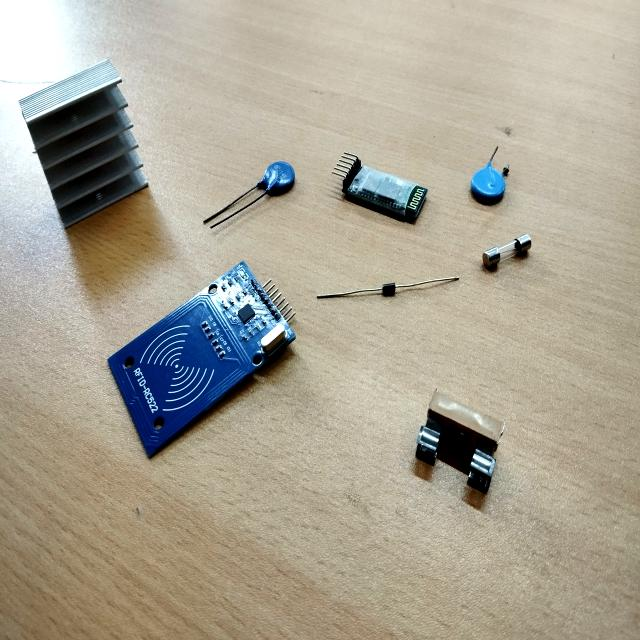capacitor: (231, 161, 295, 213), (471, 166, 505, 205)
